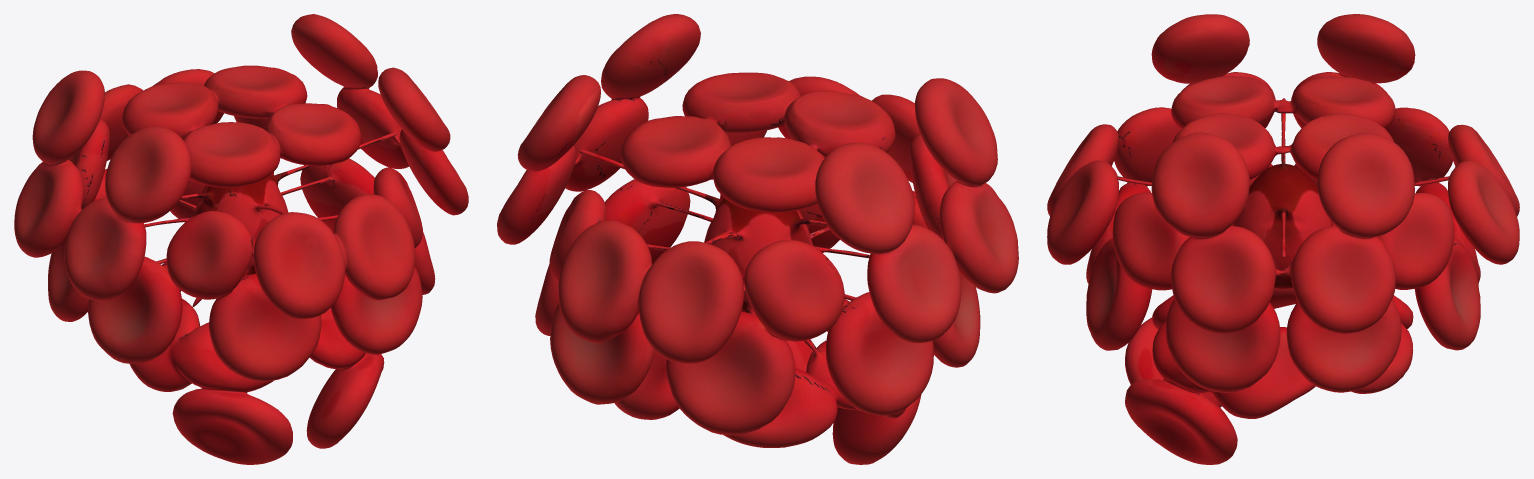
File: red_blood_cells.glb
The picture shows the model from 3 angles, left to right: view 1: azimuth 30°, elevation 25°; view 2: azimuth 150°, elevation 25°; view 3: azimuth 270°, elevation 25°; orthographic projection. The views are drawn at different scales.
Parts seen in each view (by area): view 1: model; view 2: model; view 3: model.
Part boxes in pixels (x1=…): model: x1=14, y1=14, x2=468, y2=464; model: x1=497, y1=14, x2=1018, y2=464; model: x1=1047, y1=14, x2=1519, y2=464.
Size of the model in its own units: 1.86 by 1.6 by 1.89.
Materials: 1 (1 with a texture image).
